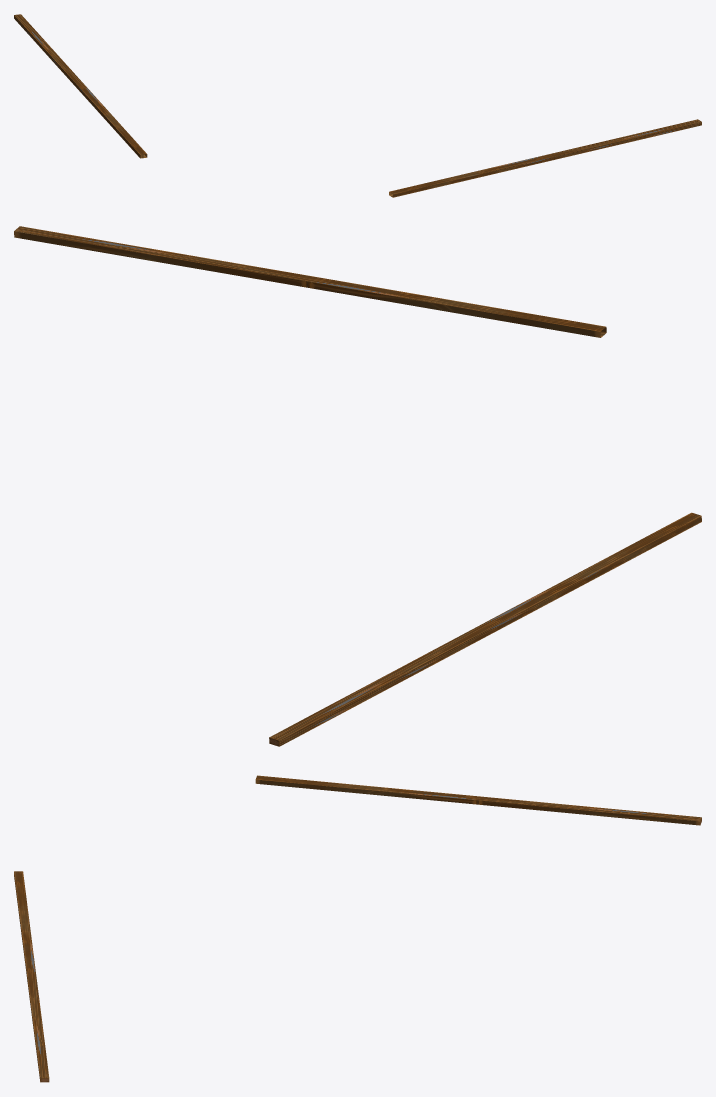
3 renders of one model, top to bottom at view 1: azimuth 30°, elevation 25°; view 2: azimuth 150°, elevation 25°; view 3: azimuth 270°, elevation 25°, orthographic. The views are drawn at different scales.
Parts seen in each view (by area): view 1: Cube.732; view 2: Cube.732; view 3: Cube.732.
Boxes of the visible parts, x1,y1,x2,y2 form: Cube.732: (14, 14, 701, 197); Cube.732: (14, 226, 701, 746); Cube.732: (14, 775, 701, 1082).
Bounding box in the file's own units: 2298 × 96.62 × 2371.
Materials: 1 (1 with a texture image).
